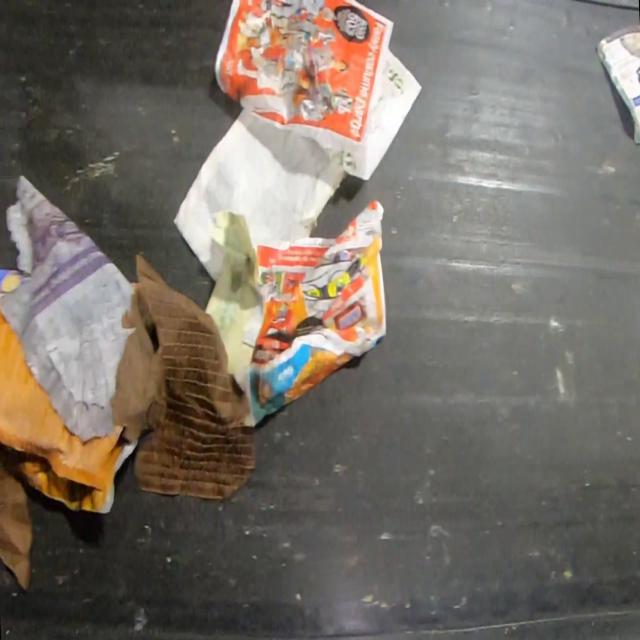cardboard: (112, 254, 256, 500), (0, 308, 137, 514)
